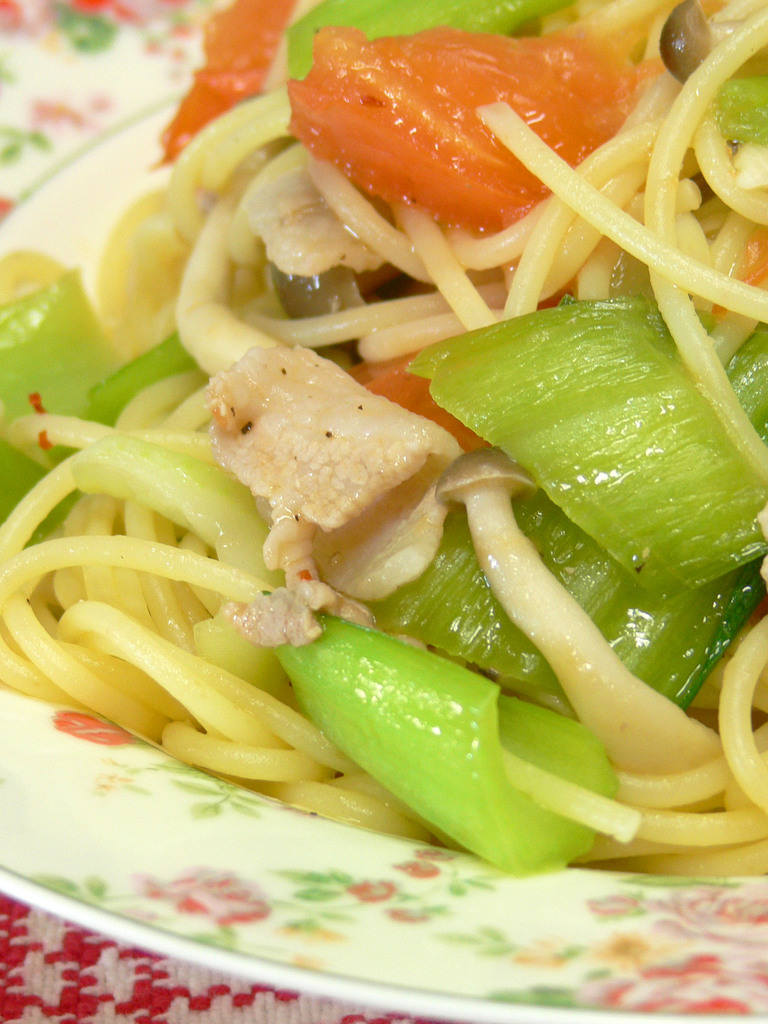pasta: (3, 0, 768, 933)
